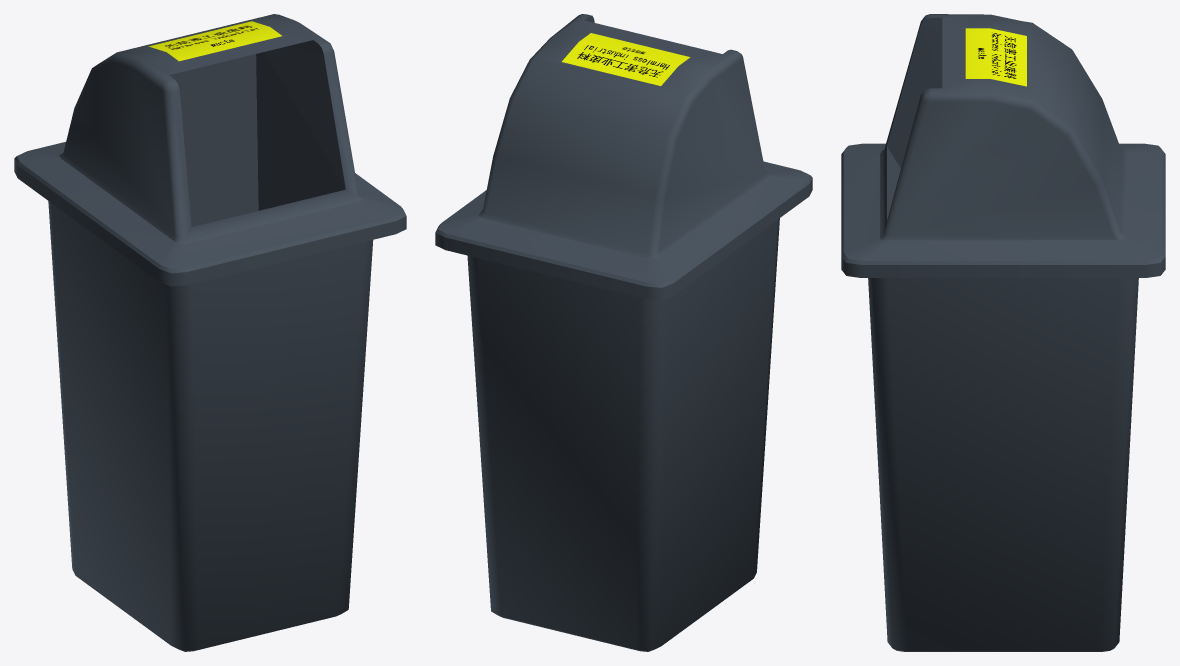
File: LaJiXiang.FBX
3 views of the same model, side by side, from view 1: azimuth 30°, elevation 25°; view 2: azimuth 150°, elevation 25°; view 3: azimuth 270°, elevation 25° (orthographic). The views are drawn at different scales.
Visible parts, largest first — view 1: YF_Model_LaJiXiang; view 2: YF_Model_LaJiXiang; view 3: YF_Model_LaJiXiang.
Part boxes in pixels (x1,y1,x2,y2): YF_Model_LaJiXiang: (14,14,406,651); YF_Model_LaJiXiang: (435,14,812,651); YF_Model_LaJiXiang: (841,14,1165,651).
Bounding box in the file's own units: 70.13 × 153 × 80.64.
Materials: 1 (1 with a texture image).
